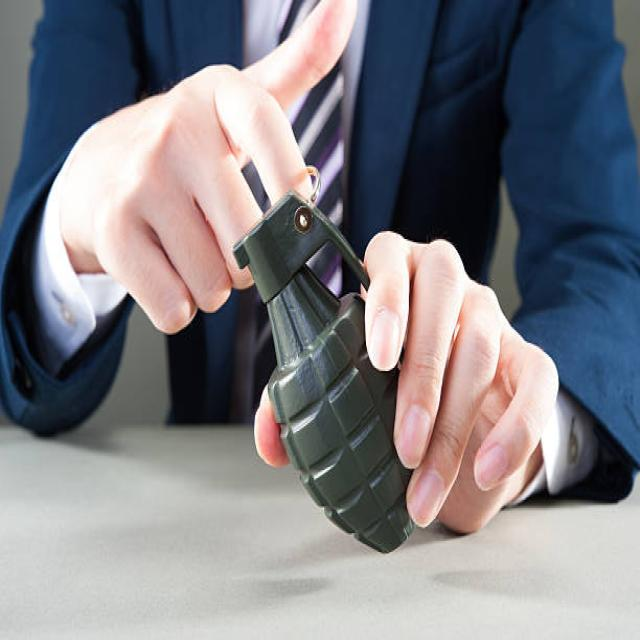grenade: (235, 194, 422, 560)
